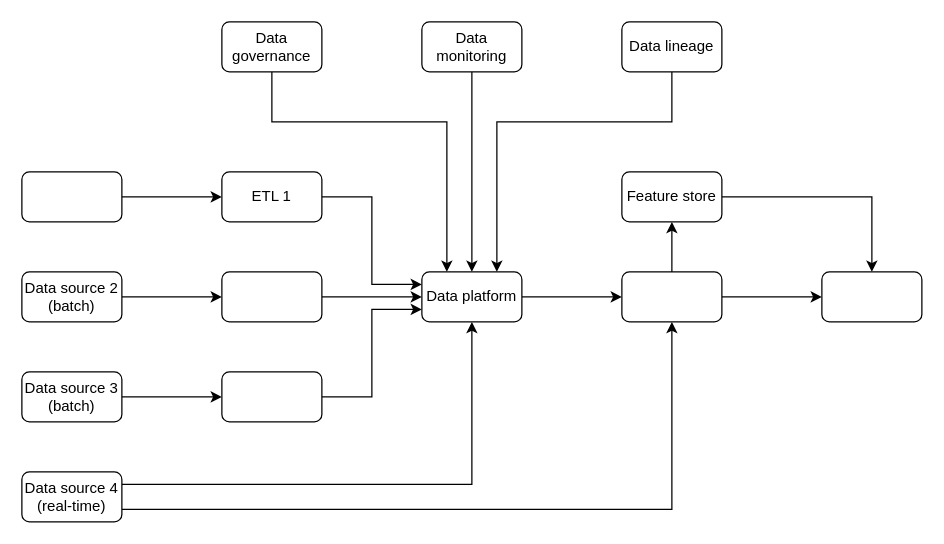
Image size: 944x544. Some labels were removed from this diagram. The shapes that lost their labels are listed below. From the top down, each one's centre as x and y in pixels, then its label:
At point 71,196: "Data source 1 (batch)".
At point 271,296: "ETL 2".
At point 671,296: "Feature engineering".
At point 871,296: "Model training".
At point 271,396: "ETL 3".
